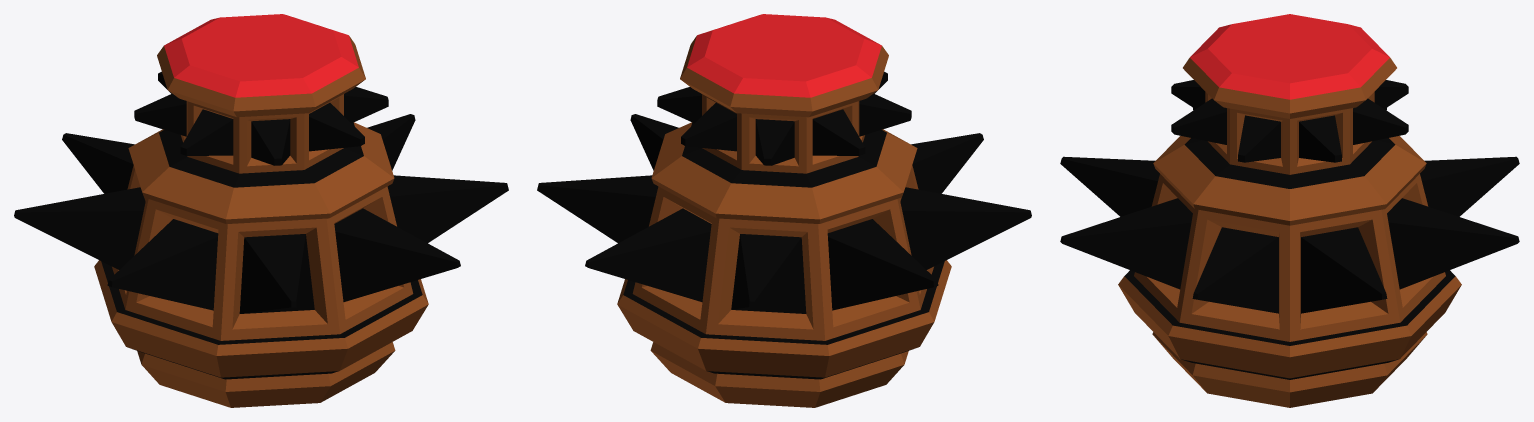
Rendered from enemy.fbx.
The picture shows the model from 3 angles, left to right: view 1: azimuth 30°, elevation 25°; view 2: azimuth 150°, elevation 25°; view 3: azimuth 270°, elevation 25°; orthographic projection.
Parts seen in each view (by area): view 1: Cylinder; view 2: Cylinder; view 3: Cylinder.
Part boxes in pixels (x1=…): Cylinder: x1=14, y1=14, x2=508, y2=407; Cylinder: x1=537, y1=14, x2=1031, y2=407; Cylinder: x1=1060, y1=14, x2=1519, y2=407.
Bounding box in the file's own units: 379 × 282 × 379.
